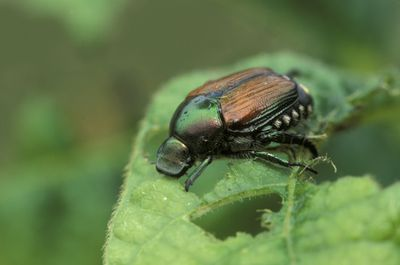green bottles flies: (140, 47, 336, 200)
